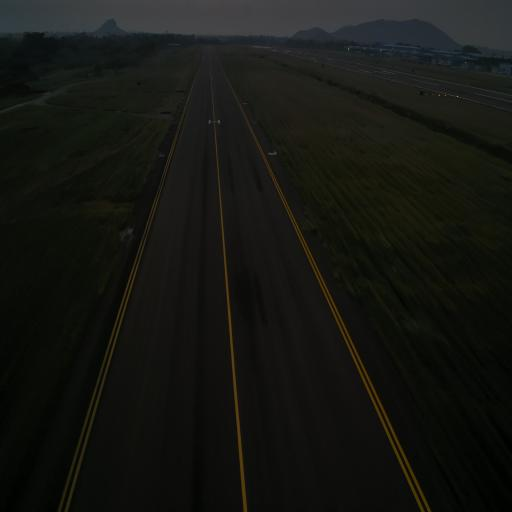on: (305, 215, 310, 227), (127, 222, 132, 233)
